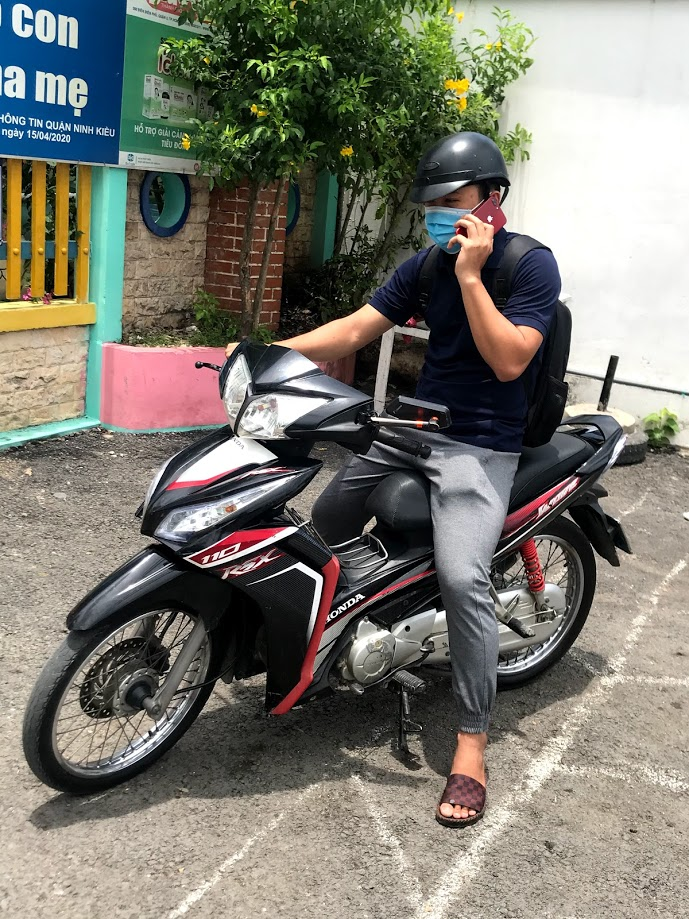dieu khien xe may: (134, 126, 549, 664)
su dung dien thoai: (415, 129, 517, 294)
